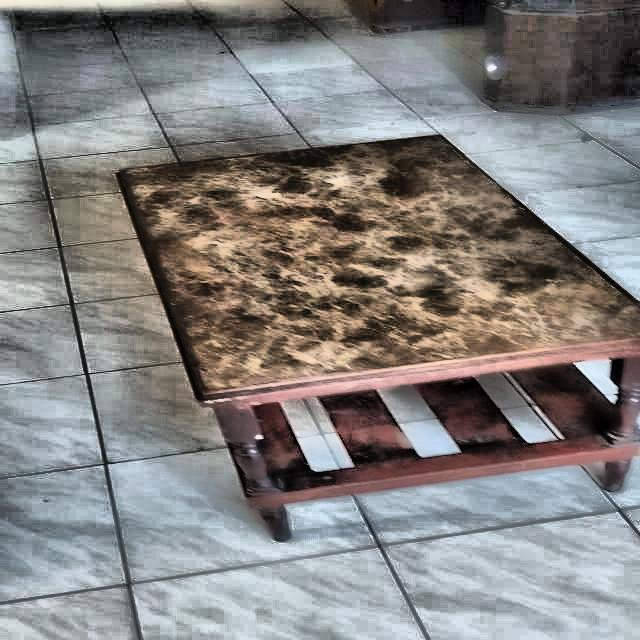mesa: (116, 128, 640, 526)
